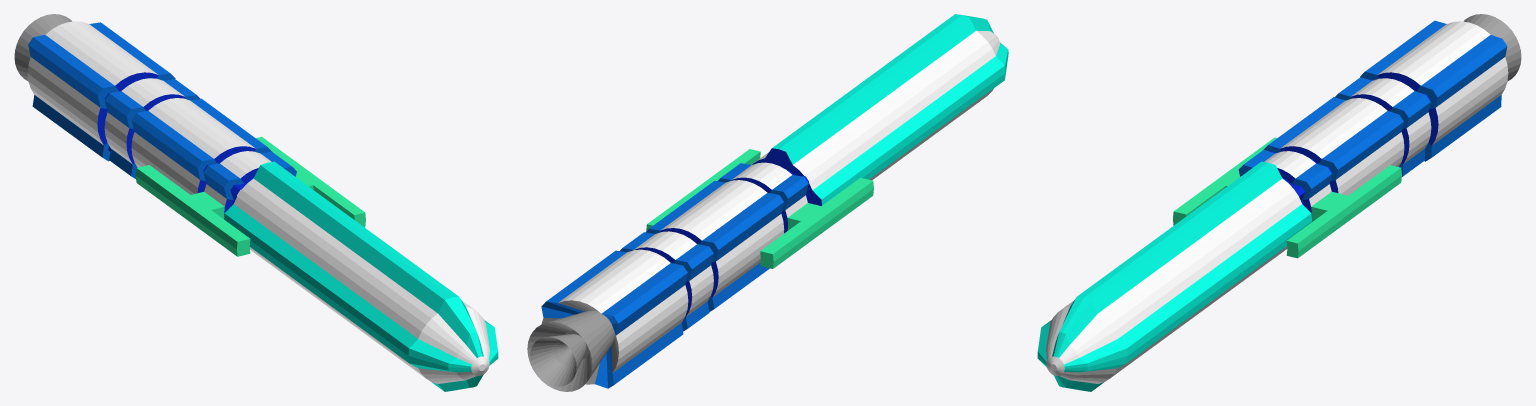
File: Rocket6.fbx
3 renders of one model, left to right at view 1: azimuth 30°, elevation 25°; view 2: azimuth 150°, elevation 25°; view 3: azimuth 330°, elevation 25°, orthographic.
Parts seen in each view (by area): view 1: Cylinder.003; view 2: Cylinder.003; view 3: Cylinder.003.
Boxes of the visible parts, x1,y1,x2,y2 form: Cylinder.003: (14, 14, 498, 391); Cylinder.003: (527, 14, 1008, 391); Cylinder.003: (1037, 14, 1521, 391).
Size of the model in its own units: 0.3357 by 0.235 by 2.02.
